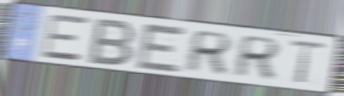B: (85, 17, 138, 68)
E: (134, 21, 189, 75), (40, 14, 90, 63)
R: (230, 34, 283, 80), (182, 29, 235, 75)
T: (287, 38, 330, 85)
